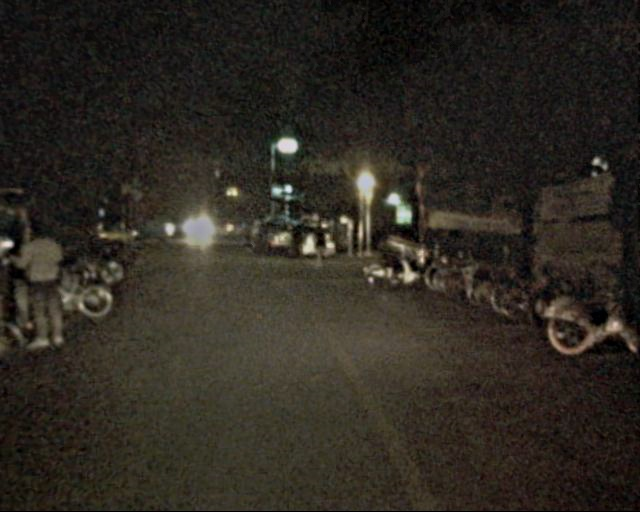person: (15, 216, 81, 355), (308, 223, 329, 270), (238, 222, 252, 256)
